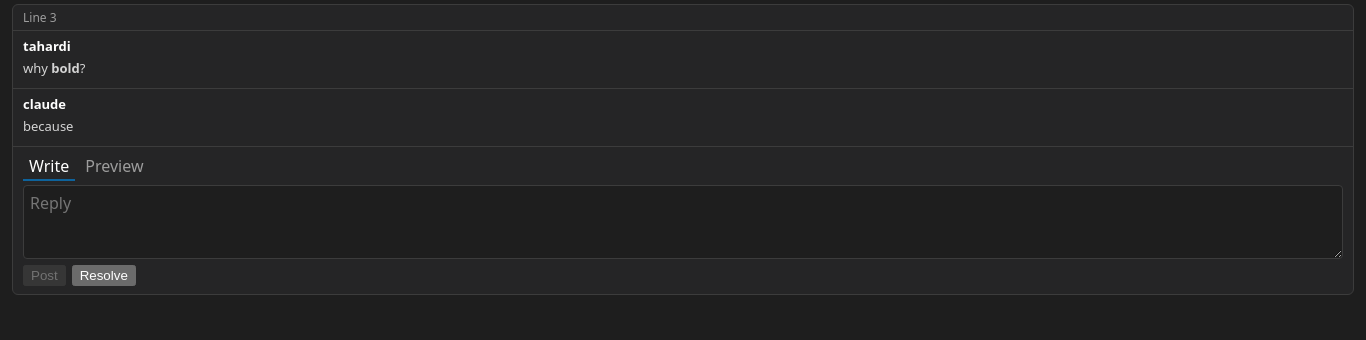
Scenario: CommentThread › shows the error and keeps the text when posting fails
In the text box labelled "Reply": (683, 222) [23,185,1343,259], type "thanks"
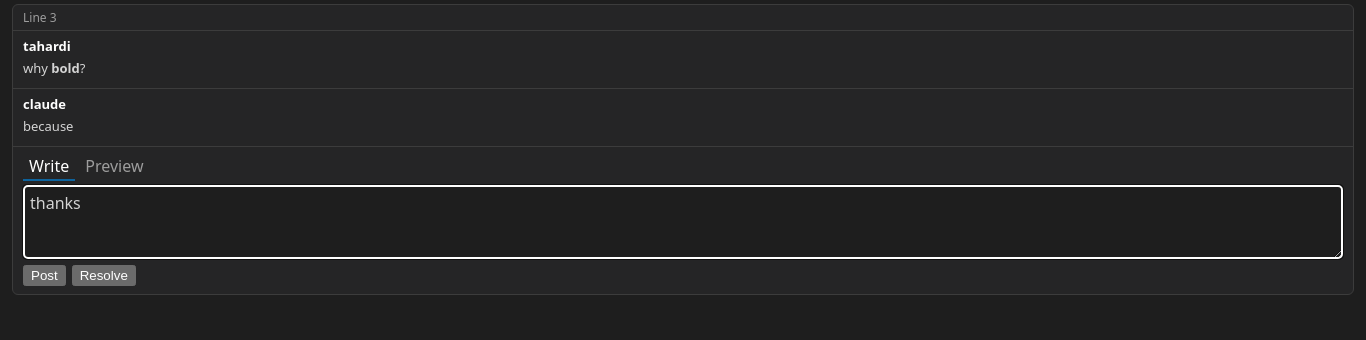
Click the button "Post": click(44, 275) [23,265,66,286]
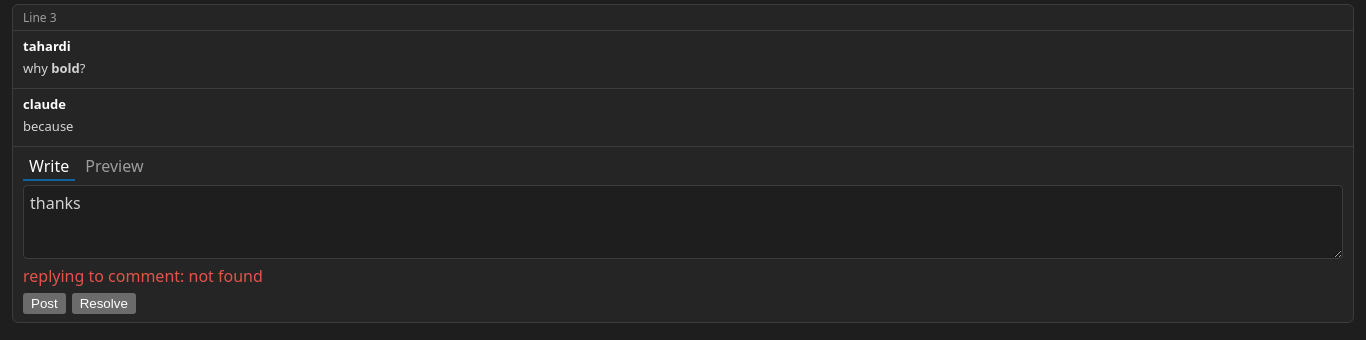
Result: the button "Post" is enabled at [23,293,66,314]
Result: the message reads "replying to comment: not found" at [23,265,263,287]
